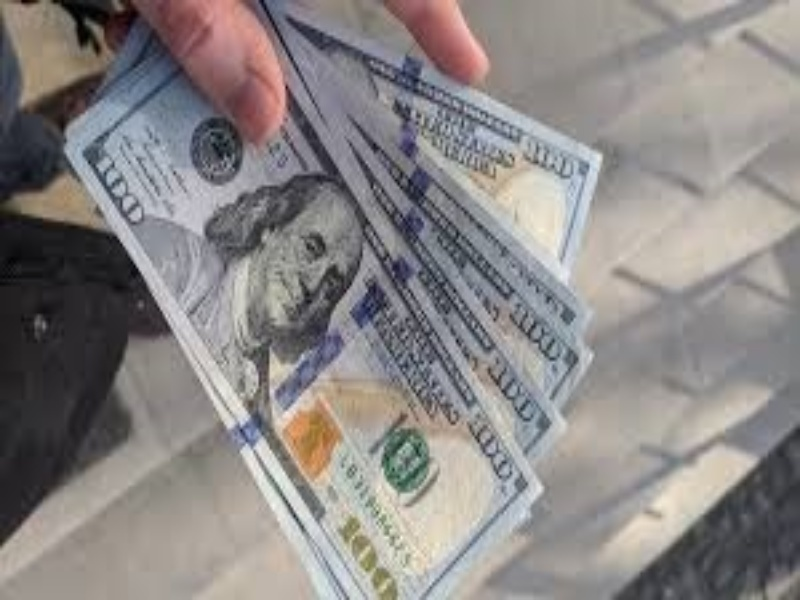cash: (64, 1, 603, 600)
